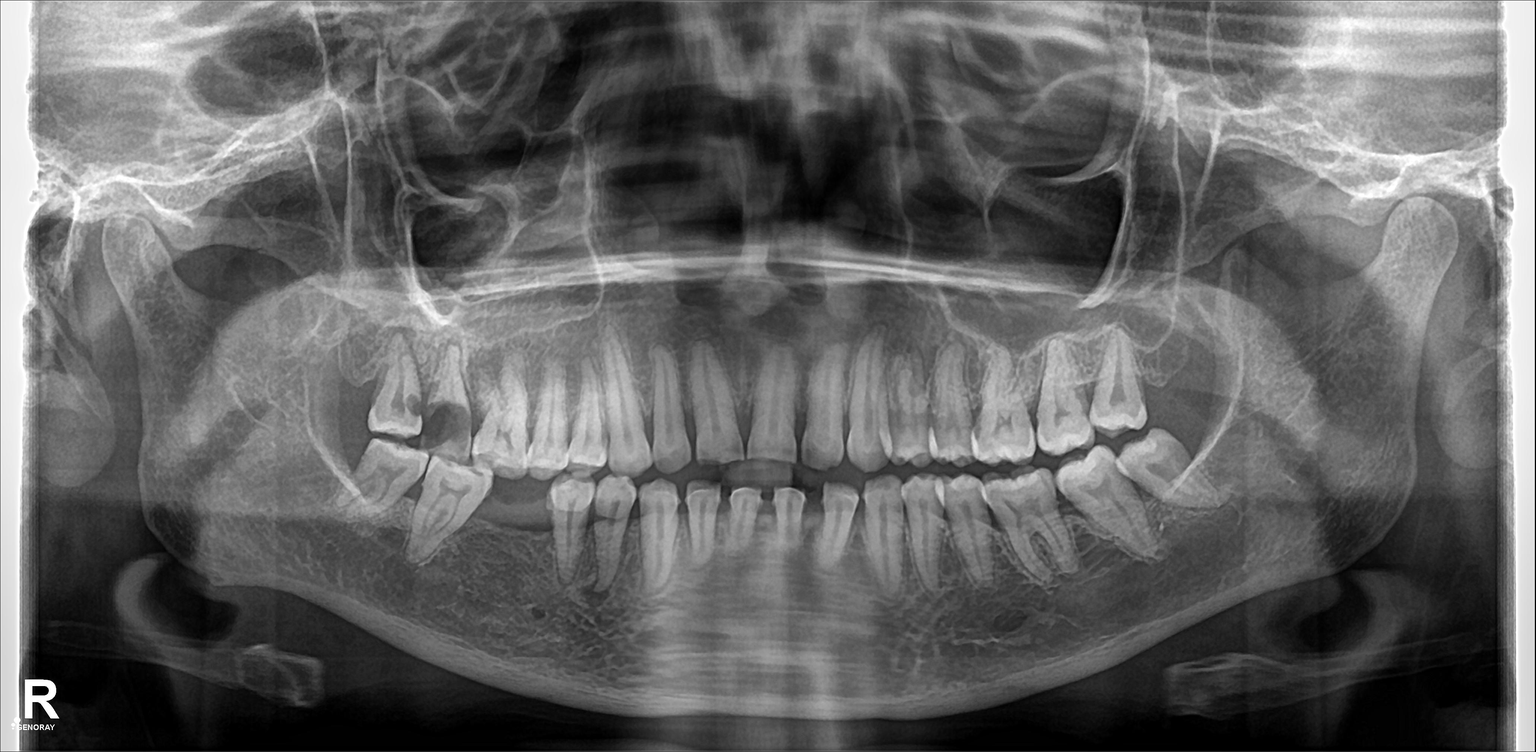Cyst: (423, 406, 471, 448), (380, 389, 428, 420)
Impacted Third Molar: (1132, 430, 1216, 499)
Missing Tooth: (326, 316, 383, 426), (501, 478, 551, 594), (1147, 322, 1195, 411)
